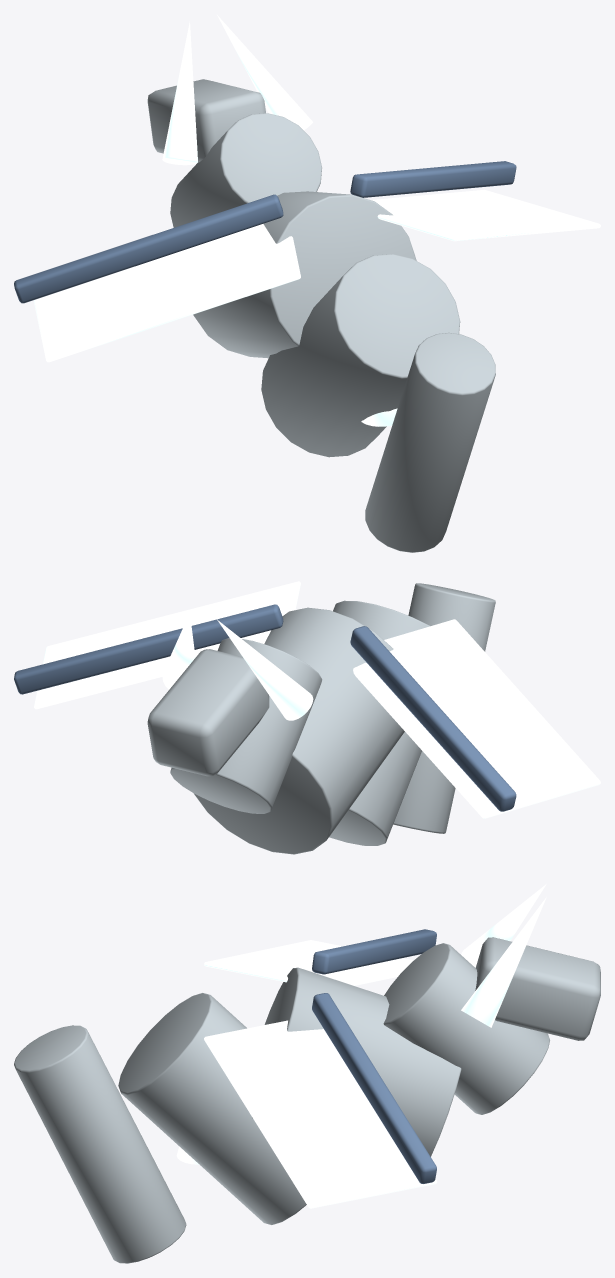
The model's file is boss_borealis.glb.
The picture shows the model from 3 angles, top to bottom: view 1: azimuth 30°, elevation 25°; view 2: azimuth 150°, elevation 25°; view 3: azimuth 270°, elevation 25°; orthographic projection.
Visible parts, largest first — view 1: StaticBody, Anim_Wing_L, Anim_Wing_R; view 2: StaticBody, Anim_Wing_L, Anim_Wing_R; view 3: StaticBody, Anim_Wing_R, Anim_Wing_L.
Boxes of the visible parts, left/top/right/bottom form: StaticBody: left=147, top=15, right=495, bottom=552; Anim_Wing_L: left=14, top=194, right=300, bottom=362; Anim_Wing_R: left=350, top=161, right=600, bottom=241; StaticBody: left=147, top=583, right=495, bottom=854; Anim_Wing_L: left=350, top=619, right=600, bottom=818; Anim_Wing_R: left=14, top=581, right=300, bottom=709; StaticBody: left=14, top=884, right=600, bottom=1263; Anim_Wing_R: left=204, top=993, right=437, bottom=1208; Anim_Wing_L: left=204, top=929, right=436, bottom=985.
Bounding box in the file's own units: 6.42 × 4.13 × 5.99.
